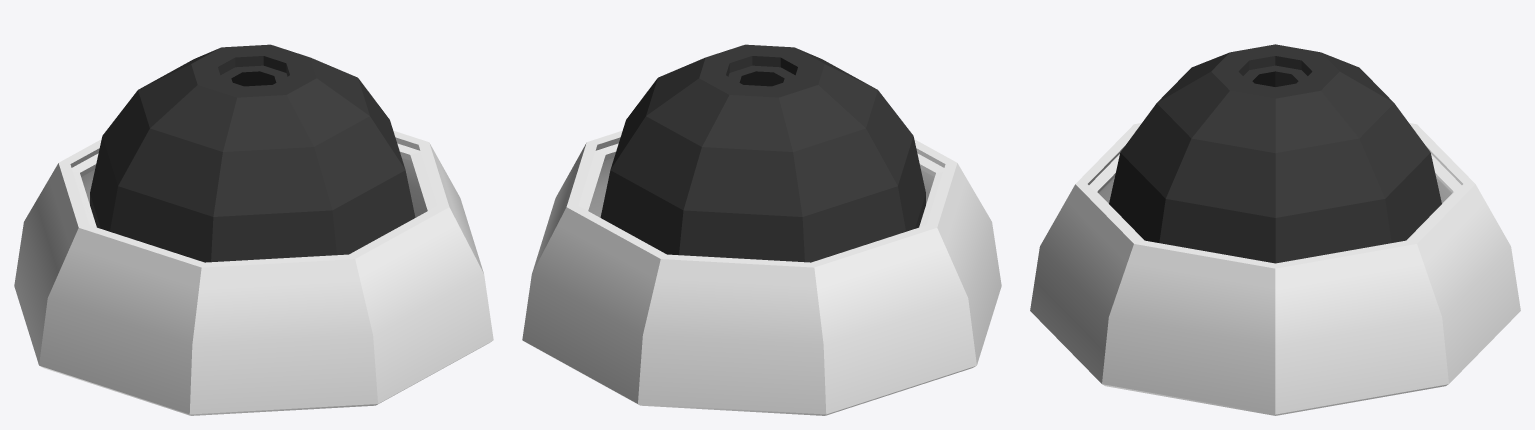
Rendered from IP_camera.fbx.
3 views of the same model, side by side, from view 1: azimuth 30°, elevation 25°; view 2: azimuth 150°, elevation 25°; view 3: azimuth 270°, elevation 25° (orthographic).
Visible parts, largest first — view 1: A, B; view 2: A, B; view 3: A, B.
Part boxes in pixels (x1,y1,x2,y2): A: (14, 130, 493, 415); B: (90, 44, 415, 262); A: (522, 130, 1001, 415); B: (600, 44, 925, 262); A: (1030, 123, 1520, 415); B: (1109, 44, 1441, 263).
Size of the model in its own units: 13.64 by 8.67 by 13.64.
1 material, 1 textured.
